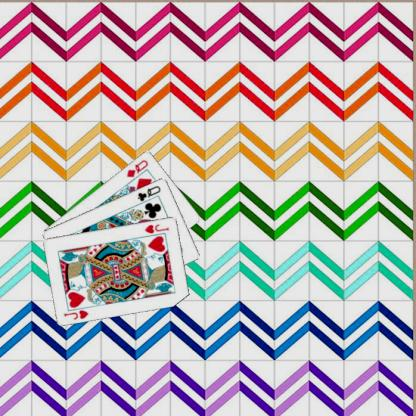JH: (62, 307, 90, 321), (142, 221, 170, 234)
QC: (135, 182, 162, 203)
QD: (124, 157, 150, 178)
